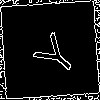Y: (25, 25, 82, 81)
